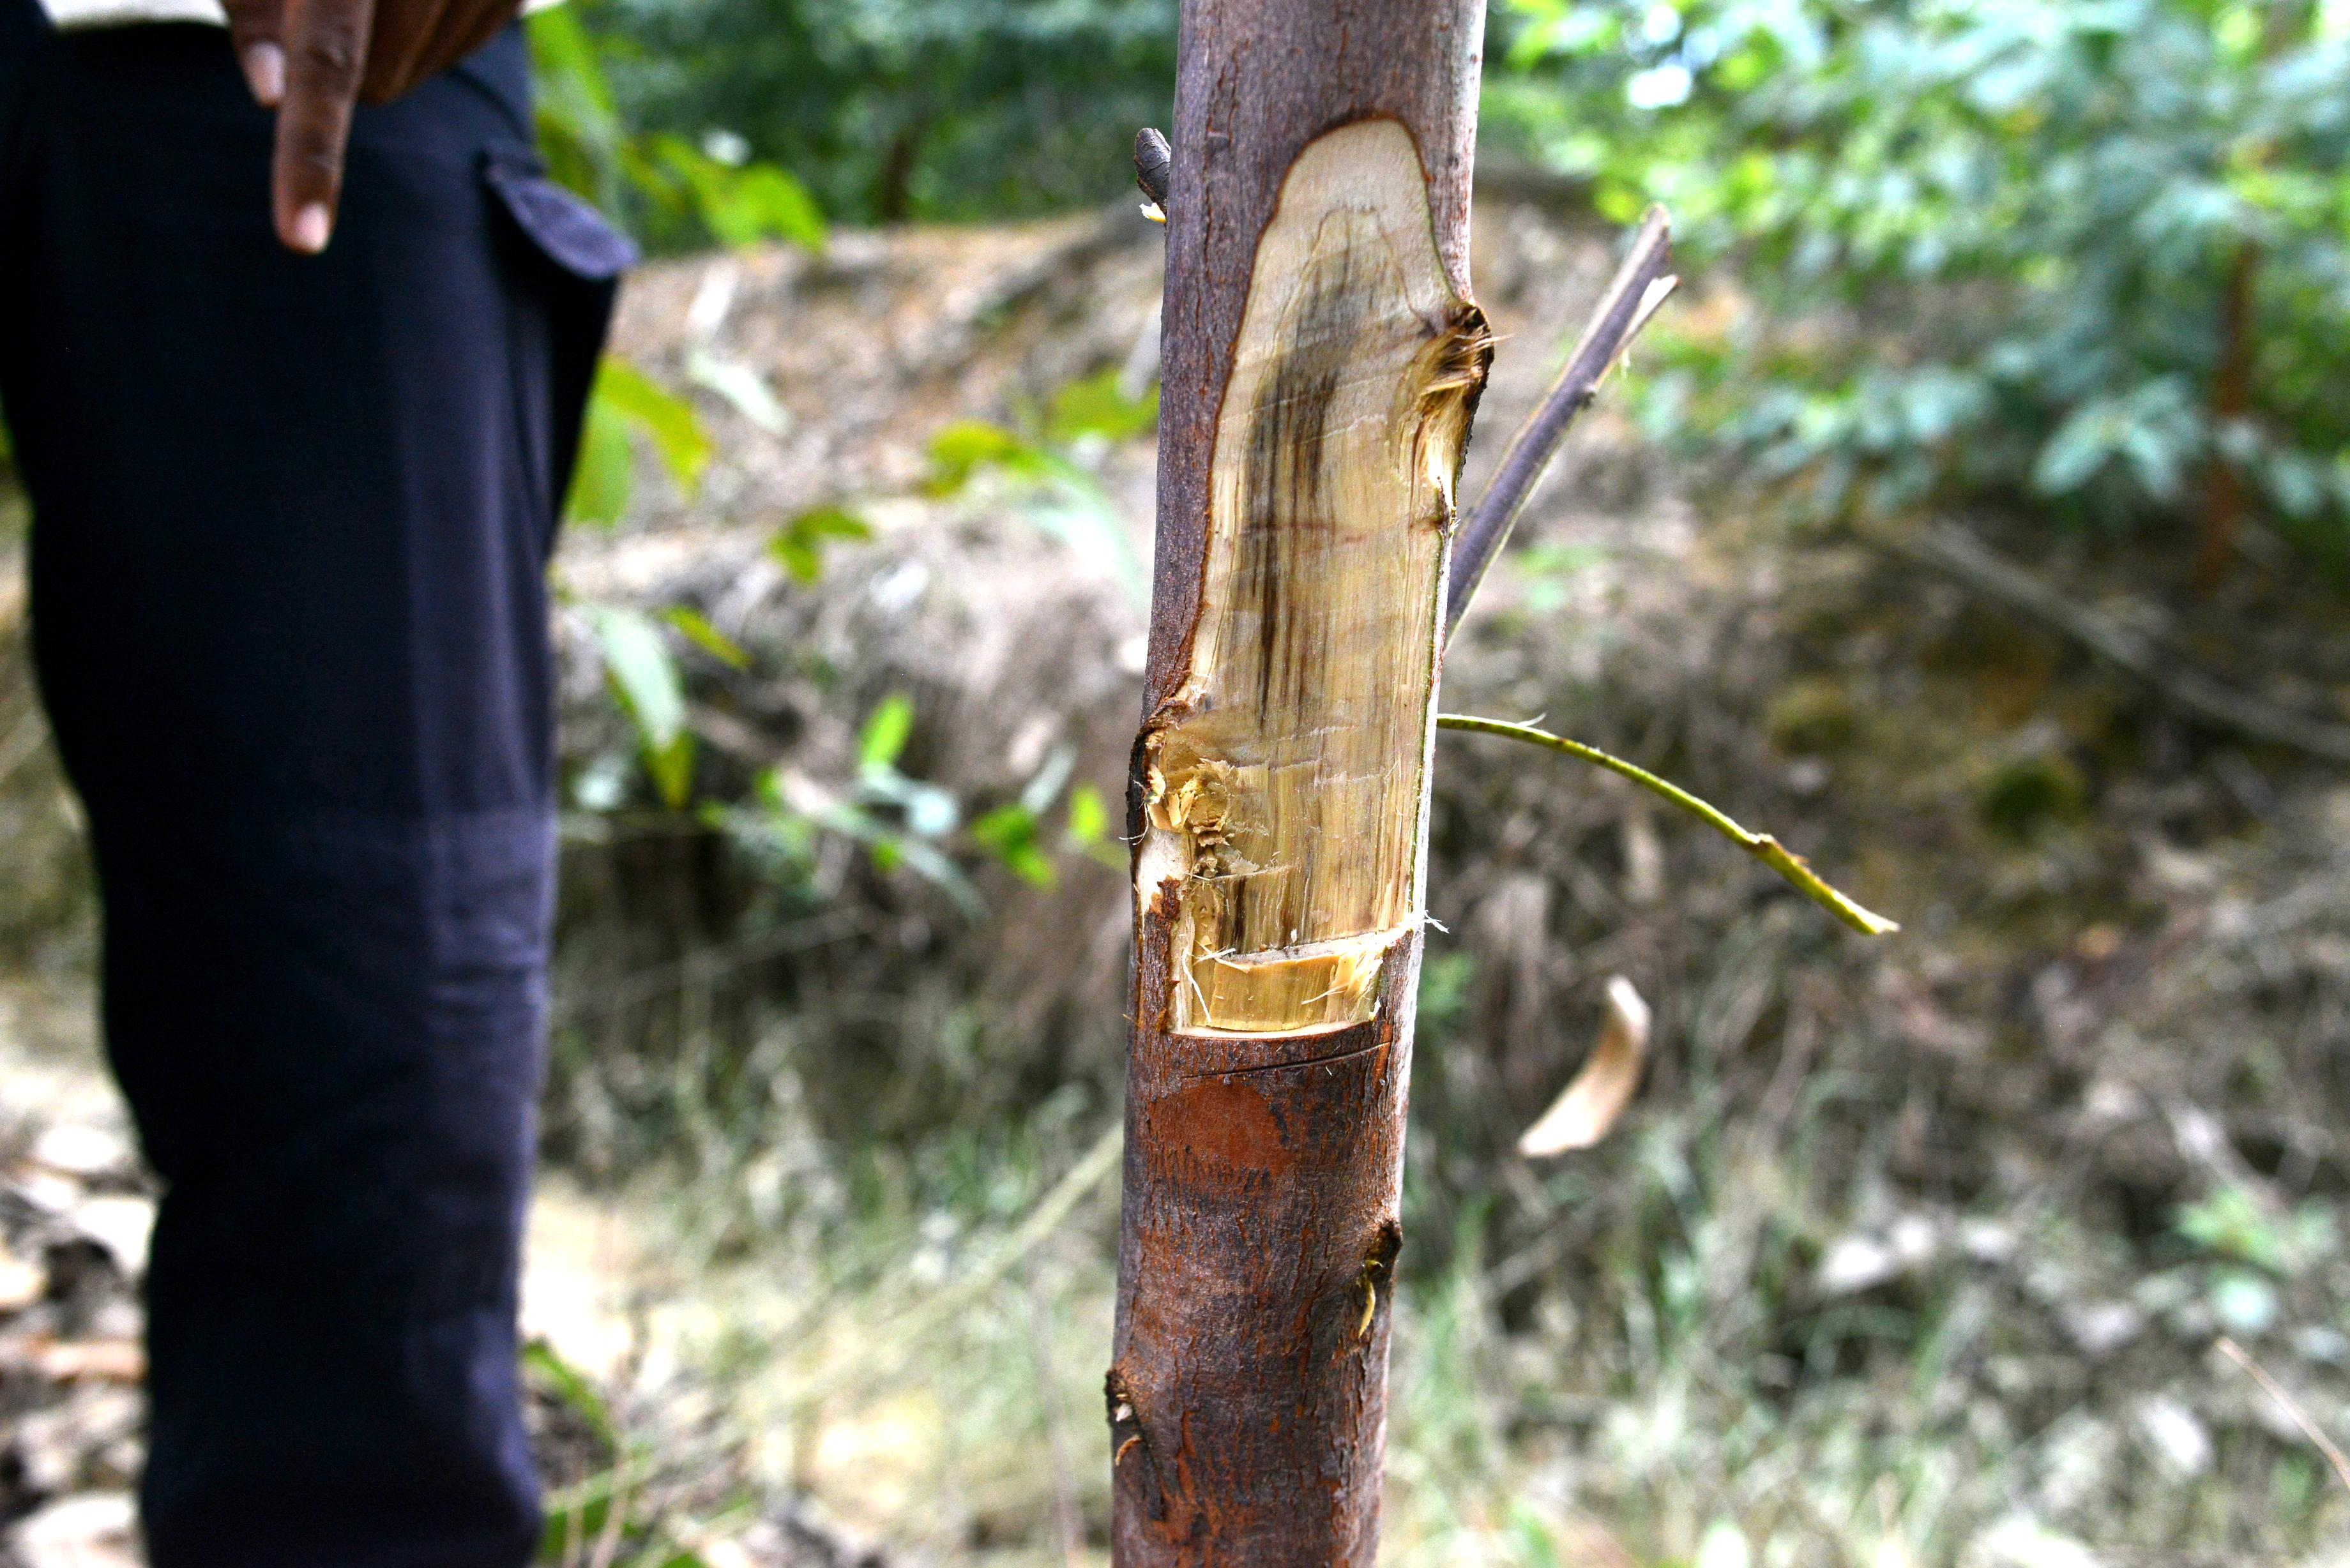Ralstonia: (1172, 283, 1463, 999)
